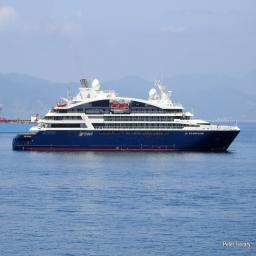cruises: (10, 73, 244, 156)
